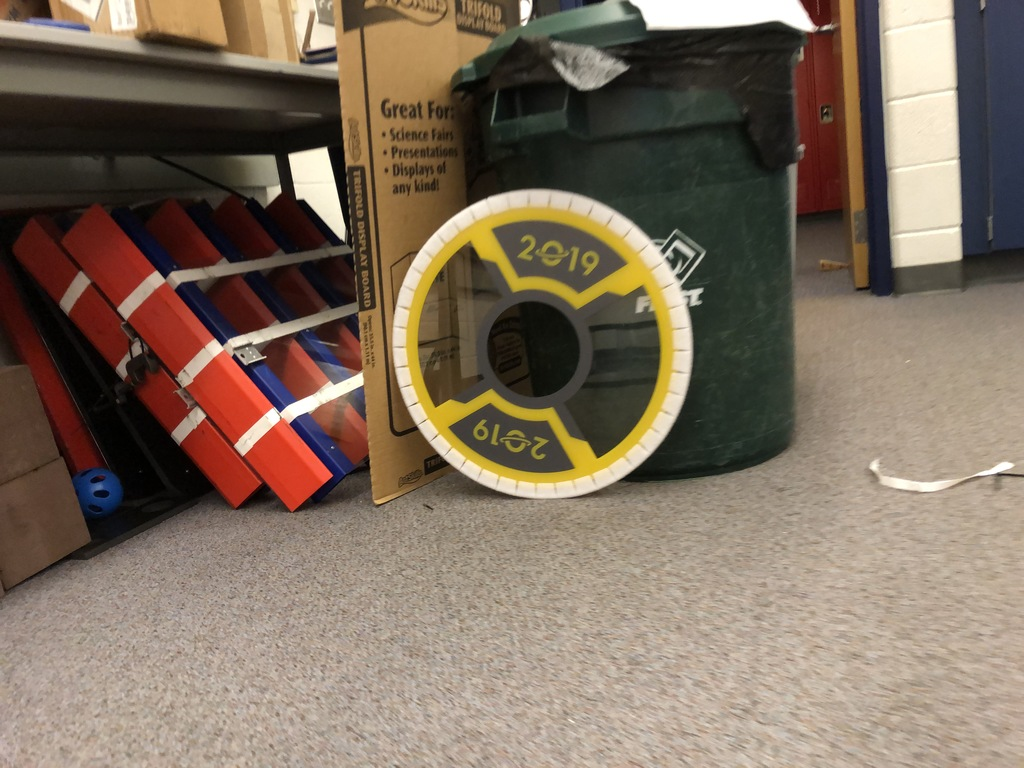hatch_panel: (373, 181, 705, 507)
